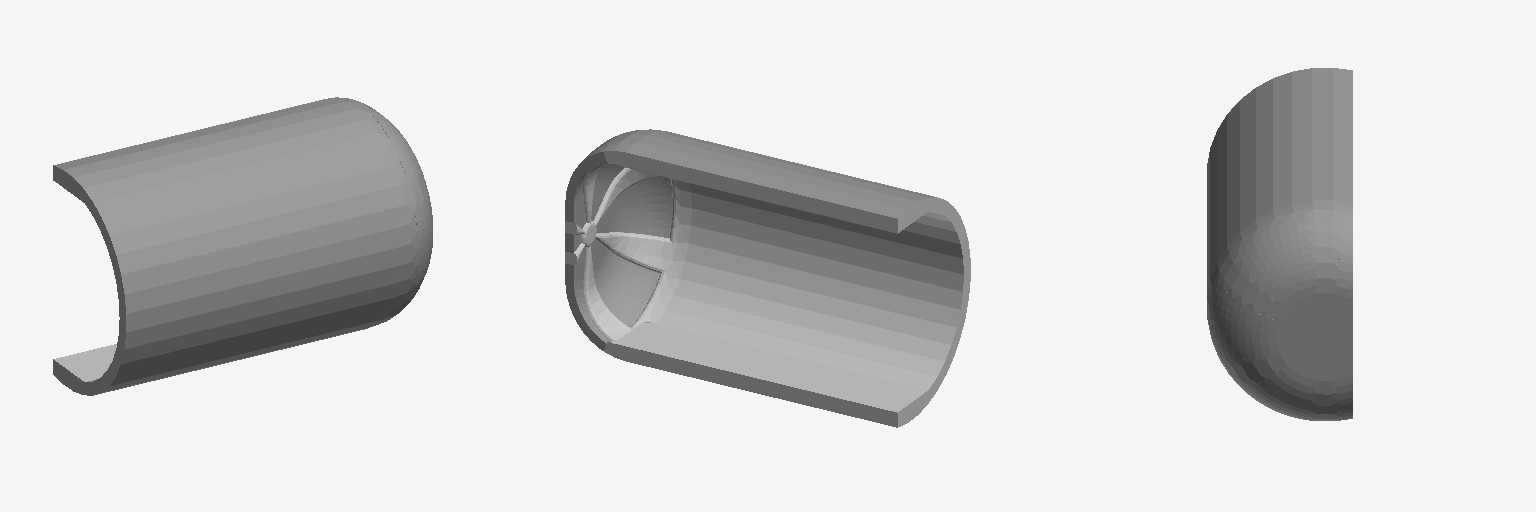
Rendered from DeadEndWindow.obj.
3 renders of one model, left to right at view 1: azimuth 30°, elevation 25°; view 2: azimuth 150°, elevation 25°; view 3: azimuth 270°, elevation 25°, orthographic.
Visible parts, largest first — view 1: DeadEndWindow, DeadEndWindow-Glass; view 2: DeadEndWindow, DeadEndWindow-Glass; view 3: DeadEndWindow, DeadEndWindow-Glass.
Part boxes in pixels (left/top/right/bottom): DeadEndWindow: left=53, top=97, right=430, bottom=395; DeadEndWindow-Glass: left=352, top=99, right=432, bottom=313; DeadEndWindow: left=565, top=129, right=970, bottom=427; DeadEndWindow-Glass: left=565, top=130, right=672, bottom=350; DeadEndWindow: left=1207, top=68, right=1352, bottom=420; DeadEndWindow-Glass: left=1211, top=217, right=1352, bottom=419.
Size of the model in its own units: 27.5 by 16.96 by 10.47.